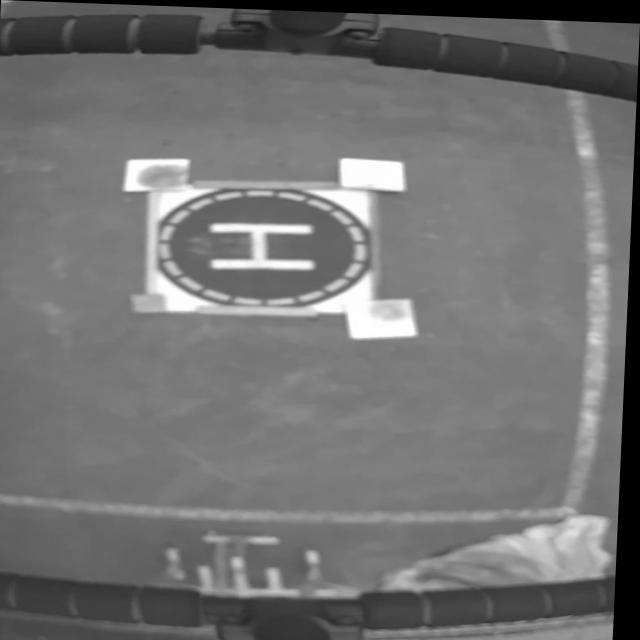Helipad: (210, 222, 318, 268)
